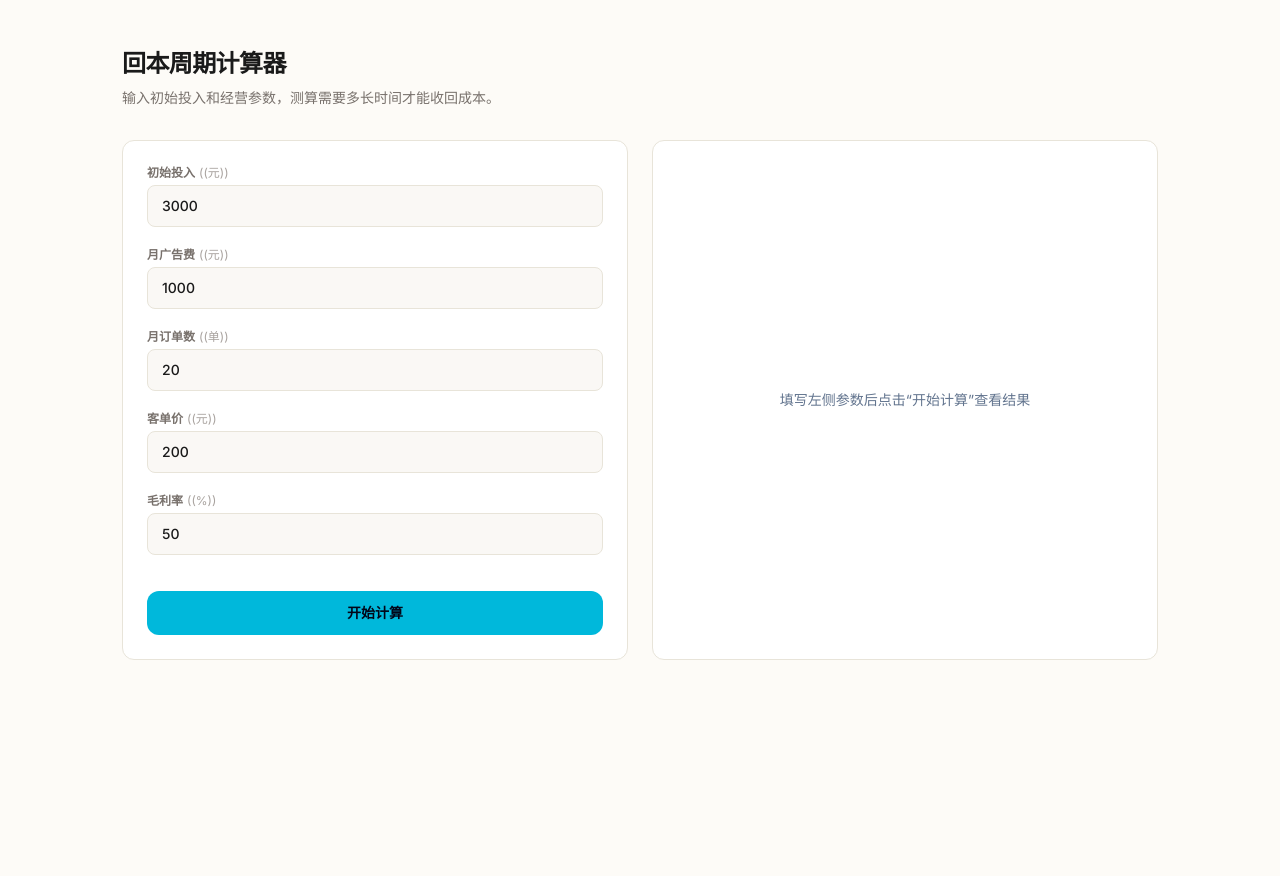
PaybackCalculatorPage › recalculates when inputs change and button is clicked
Change initial investment to 6000
Replace the text in the number field labelled "初始投入((元))" with "6000" at x=375, y=206, box [147,185,603,227]
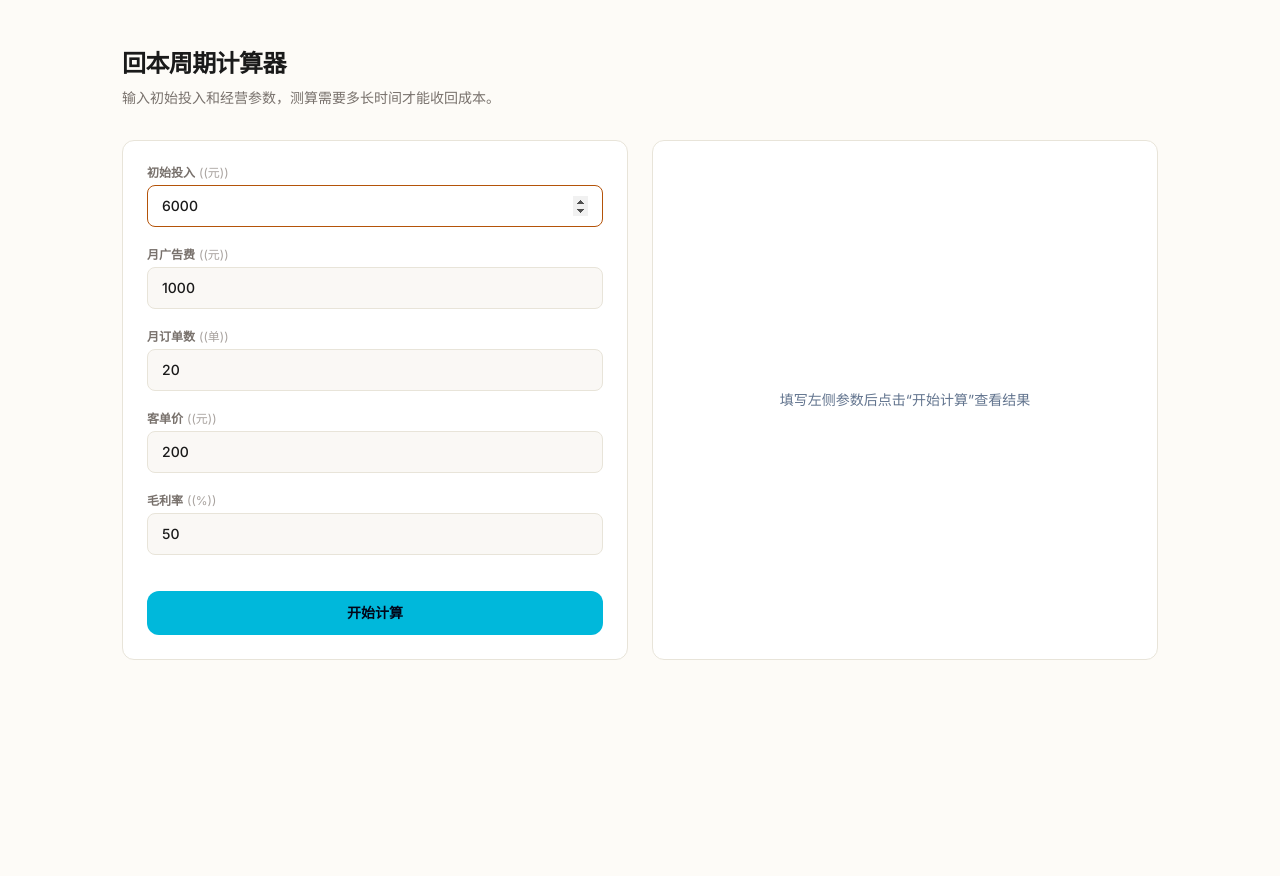
Click the button "开始计算" at x=375, y=613, box [147,591,603,635]
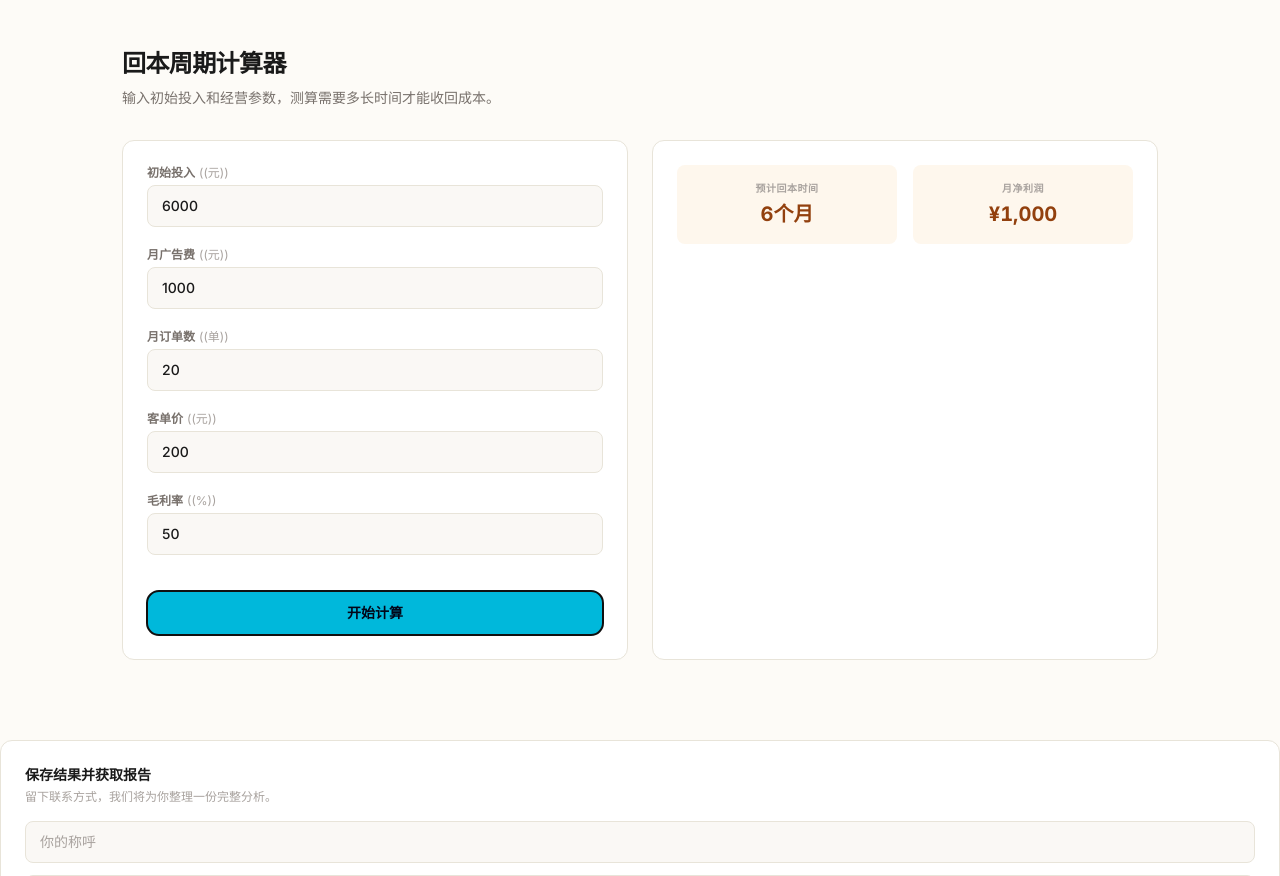
Result: the text "6个月" is shown at [760,202,813,226]
